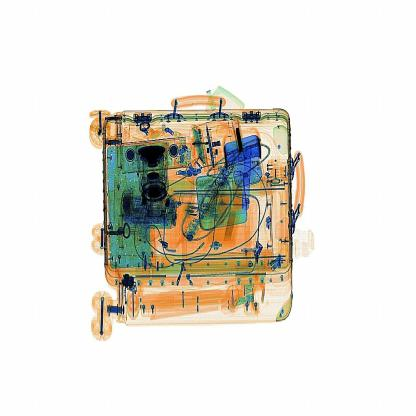pliers: (238, 142, 262, 218)
